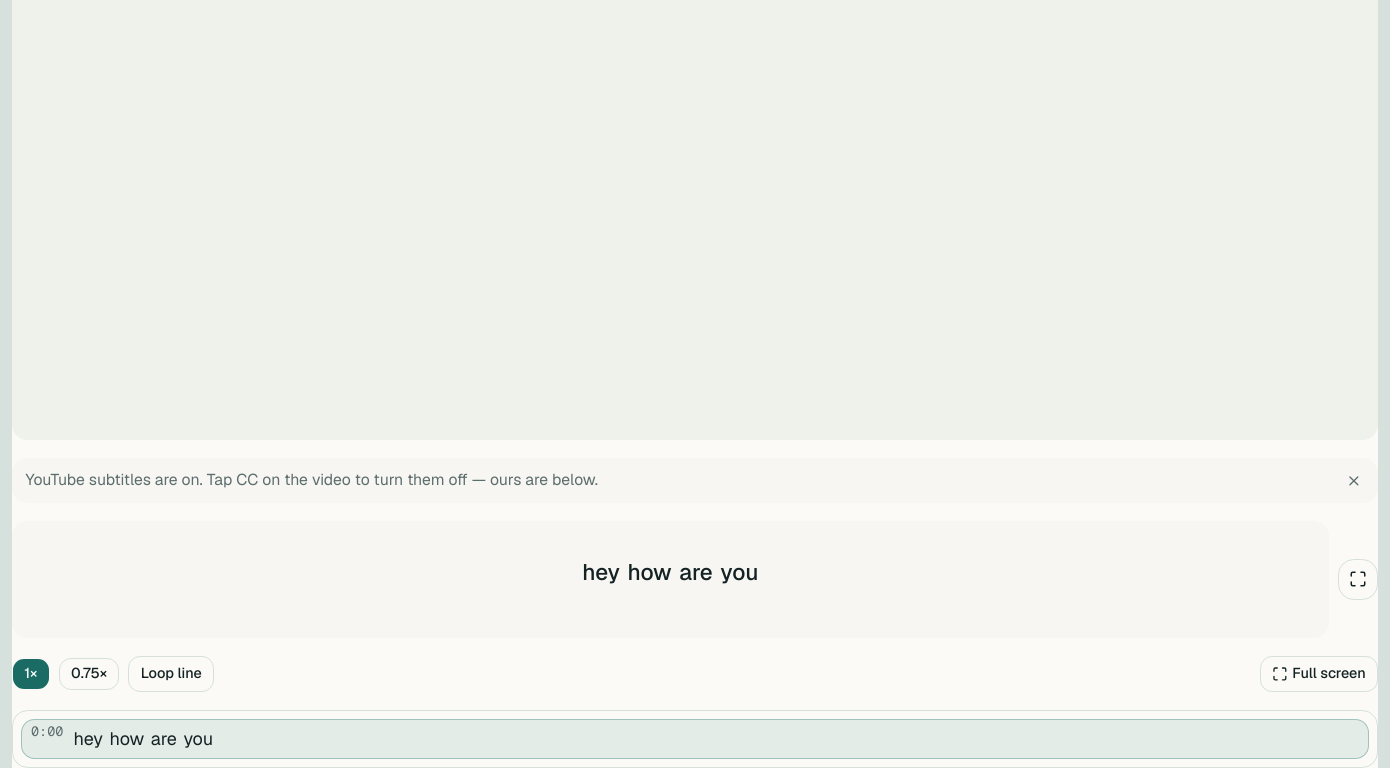
Scenario: B3 — YouTube's own captions (the module is undocumented; every call guarded) › captions that will not go: the hint, in the operator's words, dismissible
(page scrolled)
Expected: the element with test id "yt-captions-hint" reads "YouTube subtitles are on. Tap CC on the video to turn them off — ours are below.", left=26, top=469, right=598, bottom=490
Click the button with test id "yt-captions-hint-dismiss" at (1353, 480), box left=1333, top=462, right=1374, bottom=498
(page scrolled)
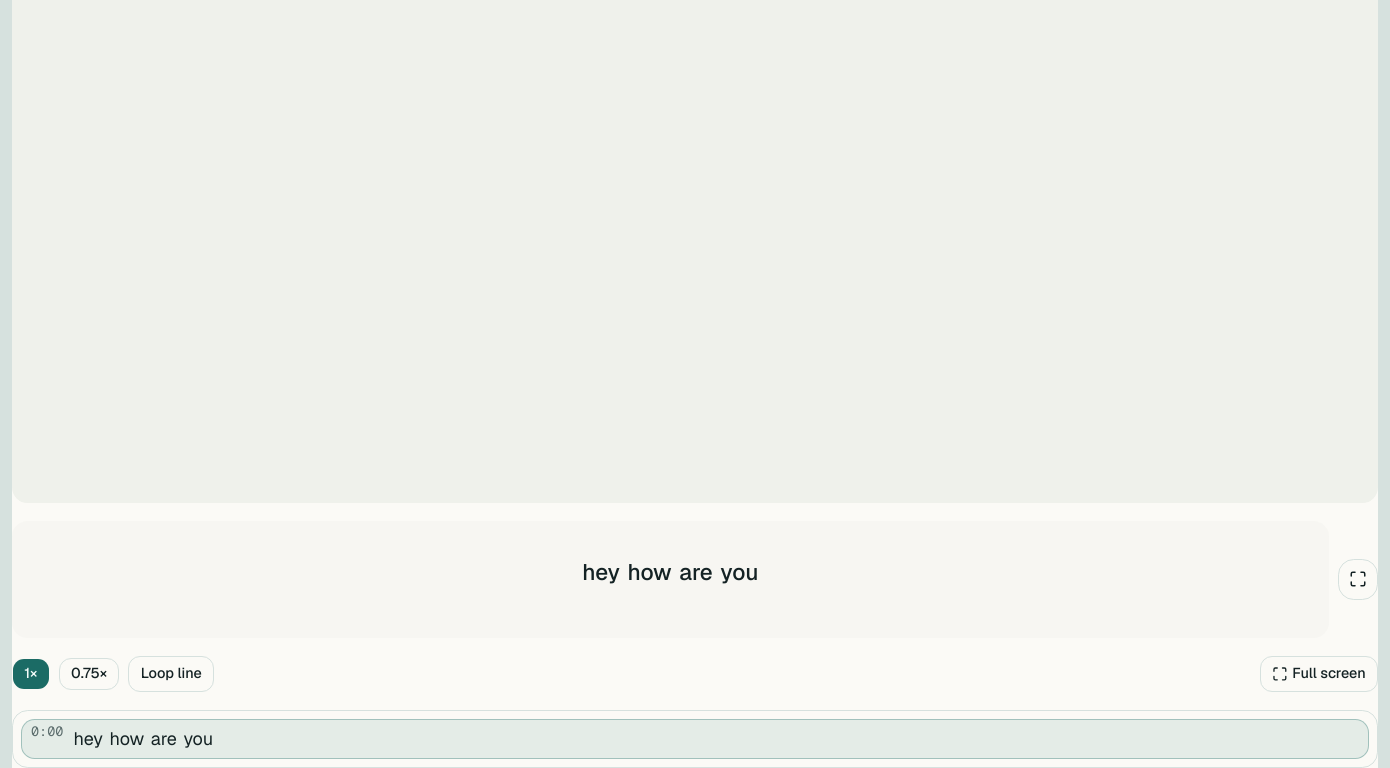
Expected: the element with test id "yt-captions-hint" is gone
